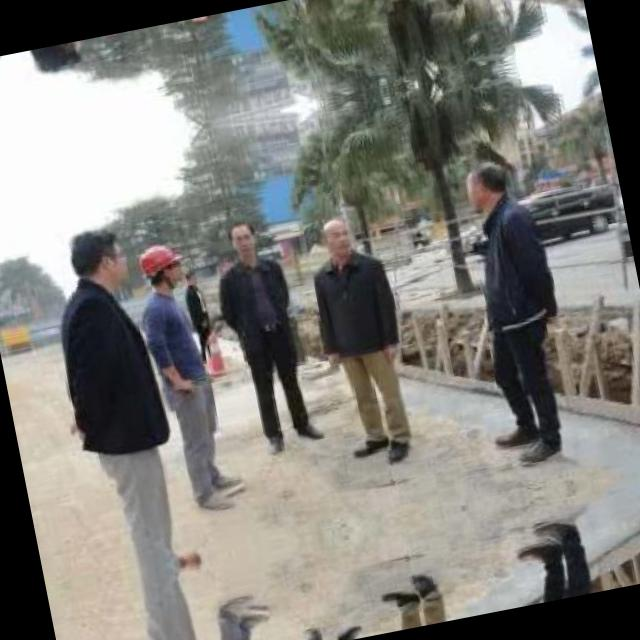helmet: (135, 238, 186, 292)
